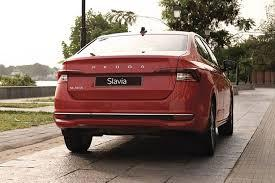skoda: (88, 64, 151, 70)
